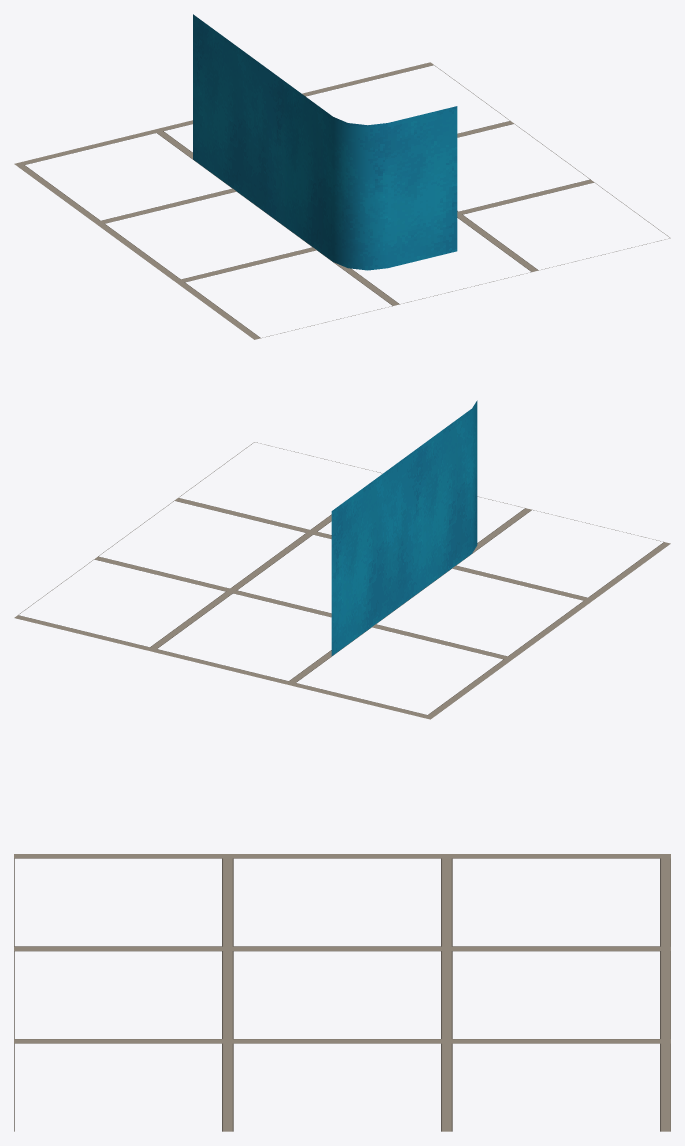
File: Water_Waterfall_Mid_Right_1x1.glb
3 views of the same model, one above another, from view 1: azimuth 30°, elevation 25°; view 2: azimuth 150°, elevation 25°; view 3: azimuth 270°, elevation 25° (orthographic). The views are drawn at different scales.
Parts seen in each view (by area): view 1: Water_Waterfall_Mid_Right_1x1, Floor; view 2: Water_Waterfall_Mid_Right_1x1, Floor; view 3: Floor.
Boxes of the visible parts, box(x1,y1,x2,y2) form: Water_Waterfall_Mid_Right_1x1: box(193, 14, 457, 270); Floor: box(14, 62, 670, 339); Water_Waterfall_Mid_Right_1x1: box(331, 400, 477, 655); Floor: box(14, 442, 670, 719); Floor: box(14, 854, 670, 1131).
Bounding box in the file's own units: 300 × 100 × 300.
Materials: 2 (2 with a texture image).
